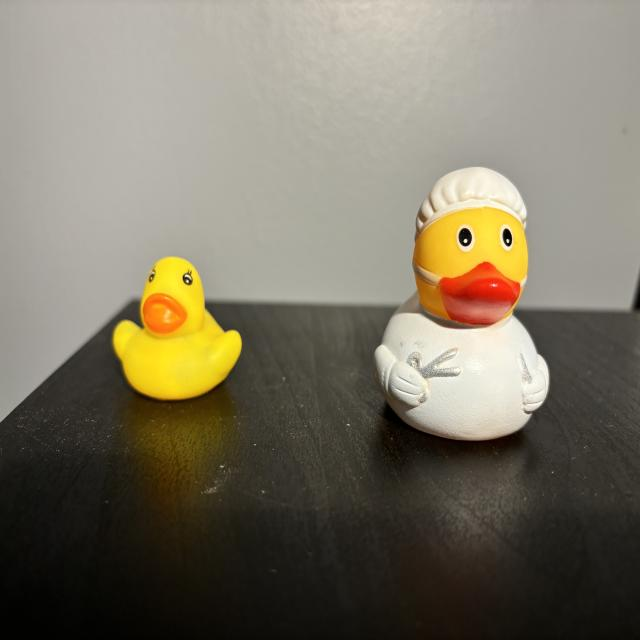duck_regular: (113, 258, 243, 401)
duck_specialty: (375, 168, 551, 442)
